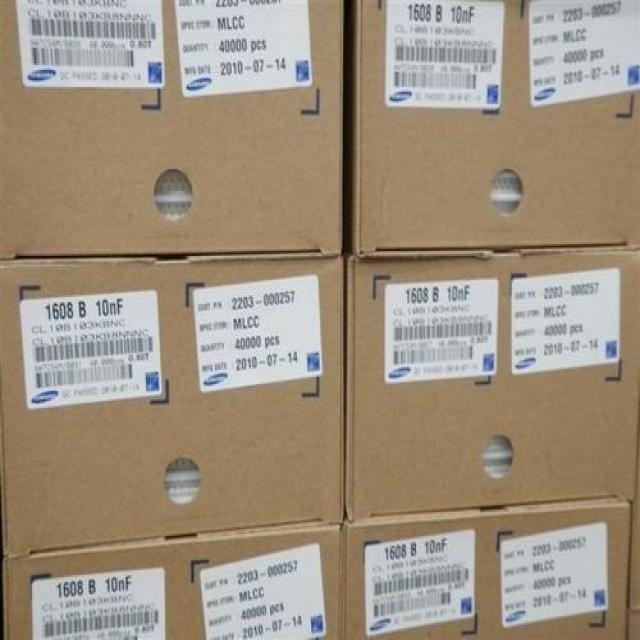box: (0, 247, 352, 570), (0, 0, 351, 266), (340, 237, 640, 505), (340, 0, 640, 261), (338, 503, 640, 640), (0, 524, 349, 640)
